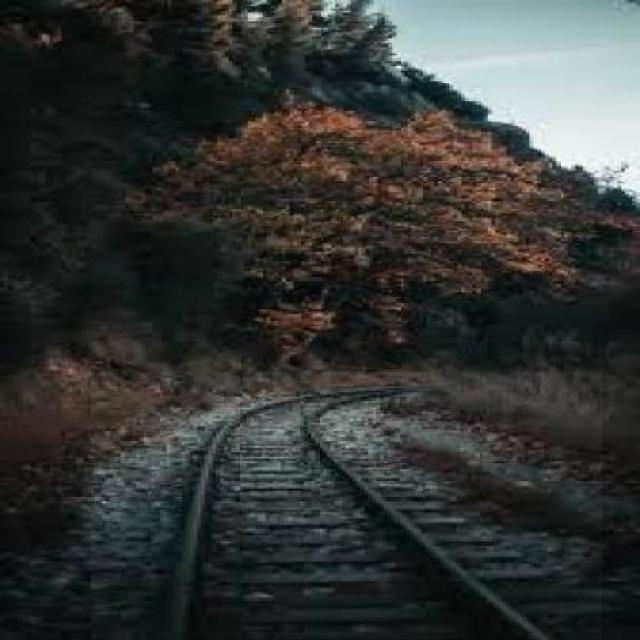rail: (93, 373, 603, 640)
